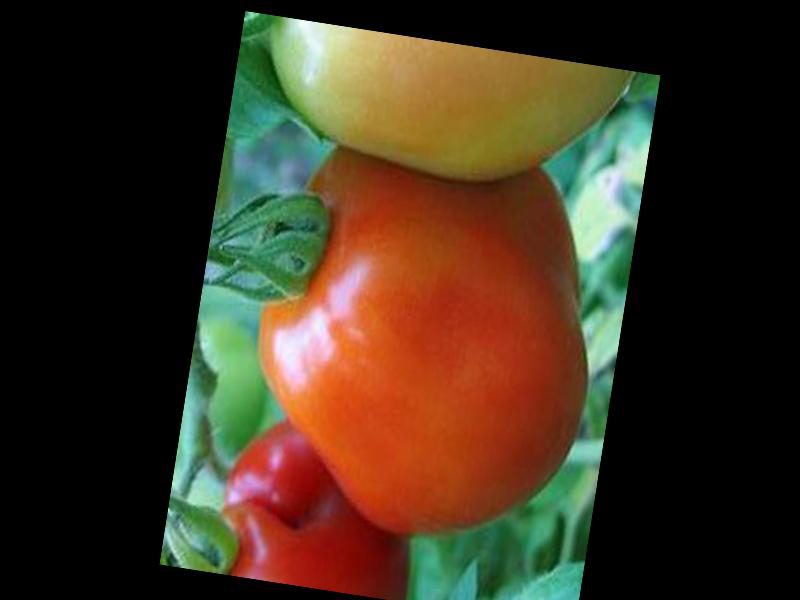Tomato: (232, 146, 616, 559)
